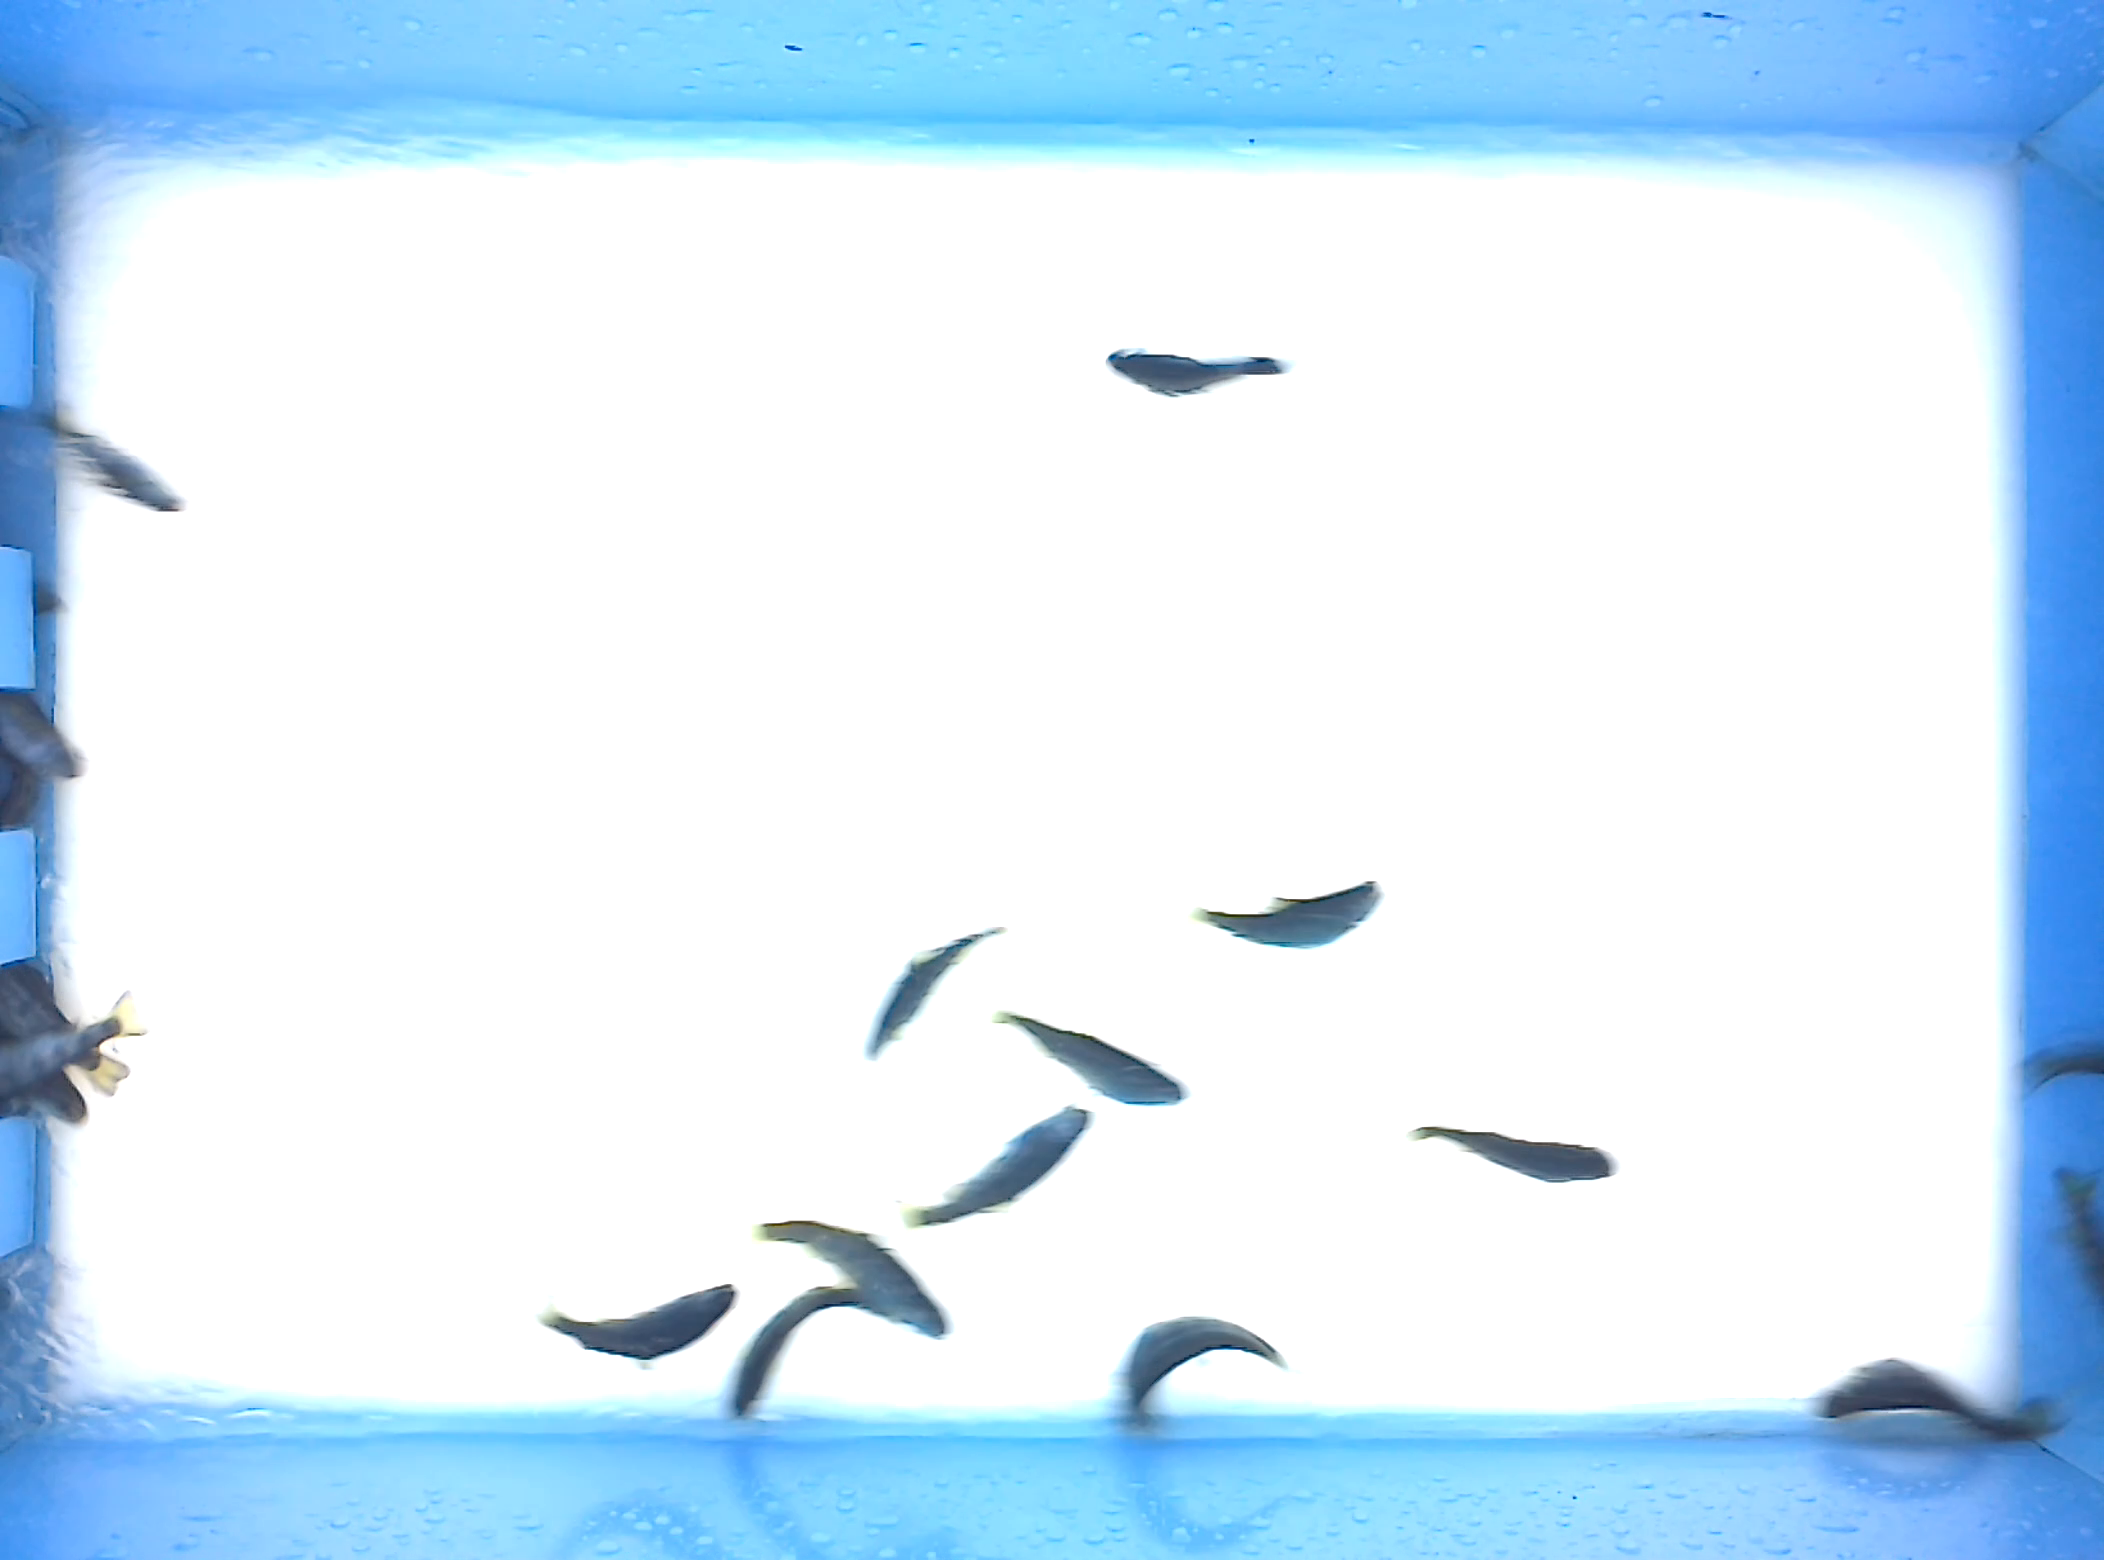fish: (898, 1104, 1096, 1232), (755, 1218, 954, 1340), (1806, 1357, 2075, 1445), (859, 921, 1013, 1067), (724, 1281, 882, 1421), (1111, 1314, 1290, 1429), (991, 1008, 1186, 1109), (26, 397, 184, 518), (534, 1280, 741, 1372), (1190, 877, 1385, 954), (1408, 1122, 1621, 1186), (1100, 344, 1298, 401)
